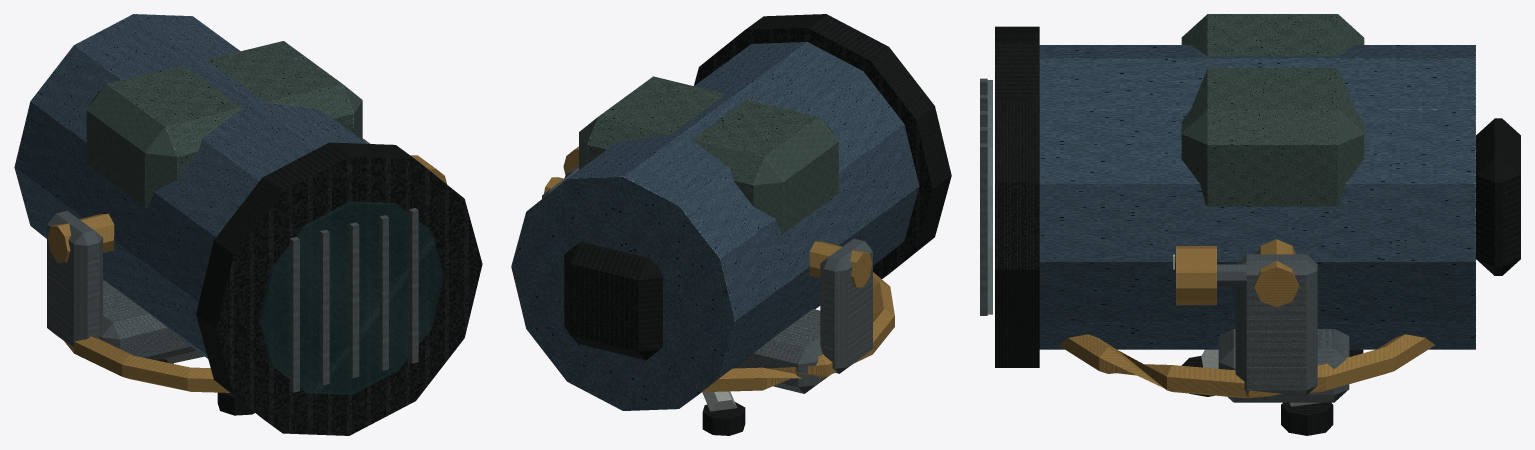
Rendered from blender_laser_grid_3.glb.
3 renders of one model, left to right at view 1: azimuth 30°, elevation 25°; view 2: azimuth 150°, elevation 25°; view 3: azimuth 270°, elevation 25°, orthographic. The views are drawn at different scales.
Parts seen in each view (by area): view 1: blender_laser_grid_3; view 2: blender_laser_grid_3; view 3: blender_laser_grid_3.
Part boxes in pixels (x1,y1,x2,y2): blender_laser_grid_3: (14,14,482,435); blender_laser_grid_3: (511,14,951,435); blender_laser_grid_3: (980,14,1520,435).
Size of the model in its own units: 0.119 by 0.1039 by 0.145.
8 materials, 8 textured.
